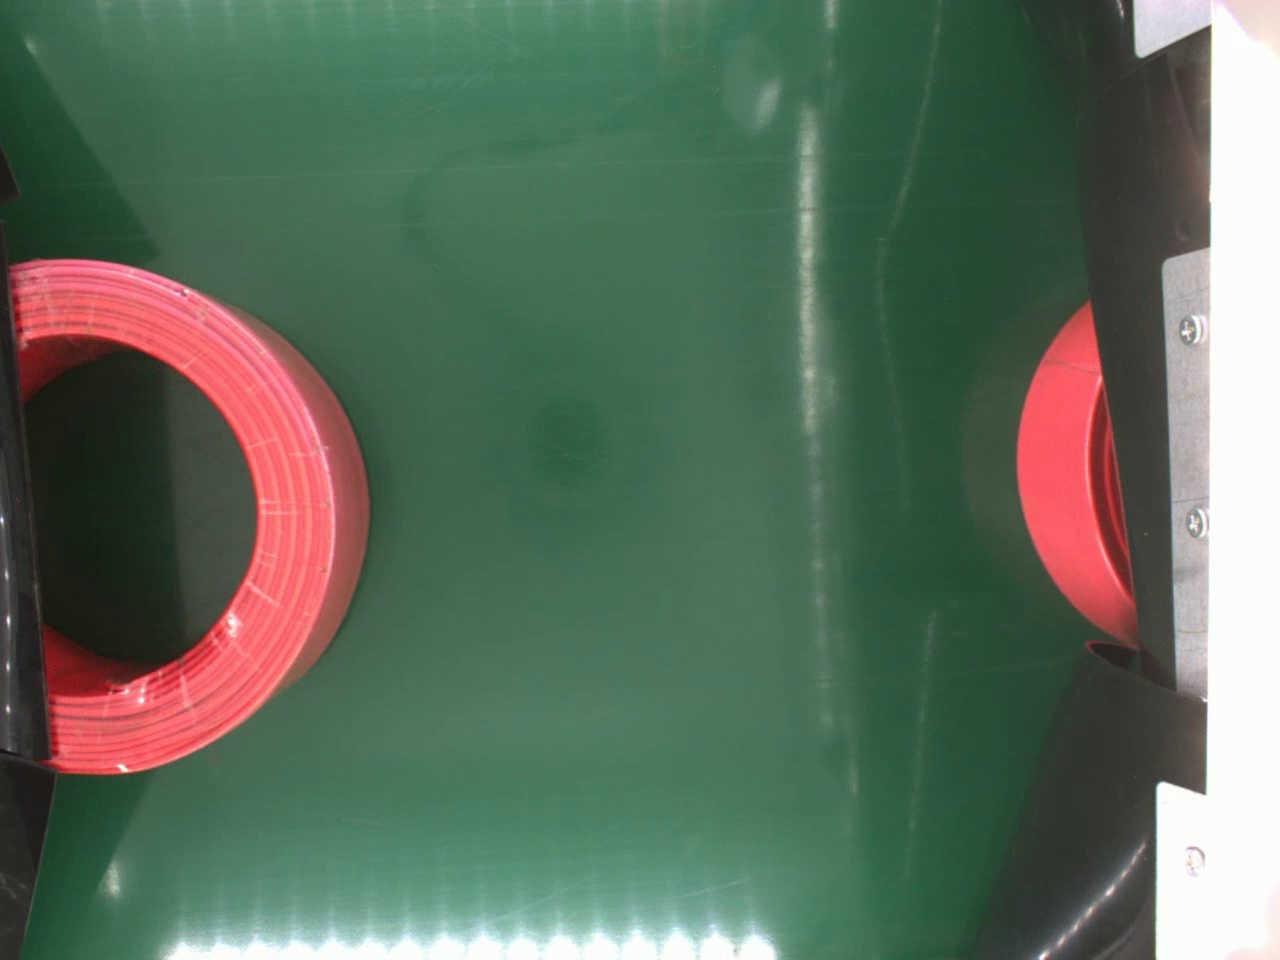red: (0, 259, 377, 776)
